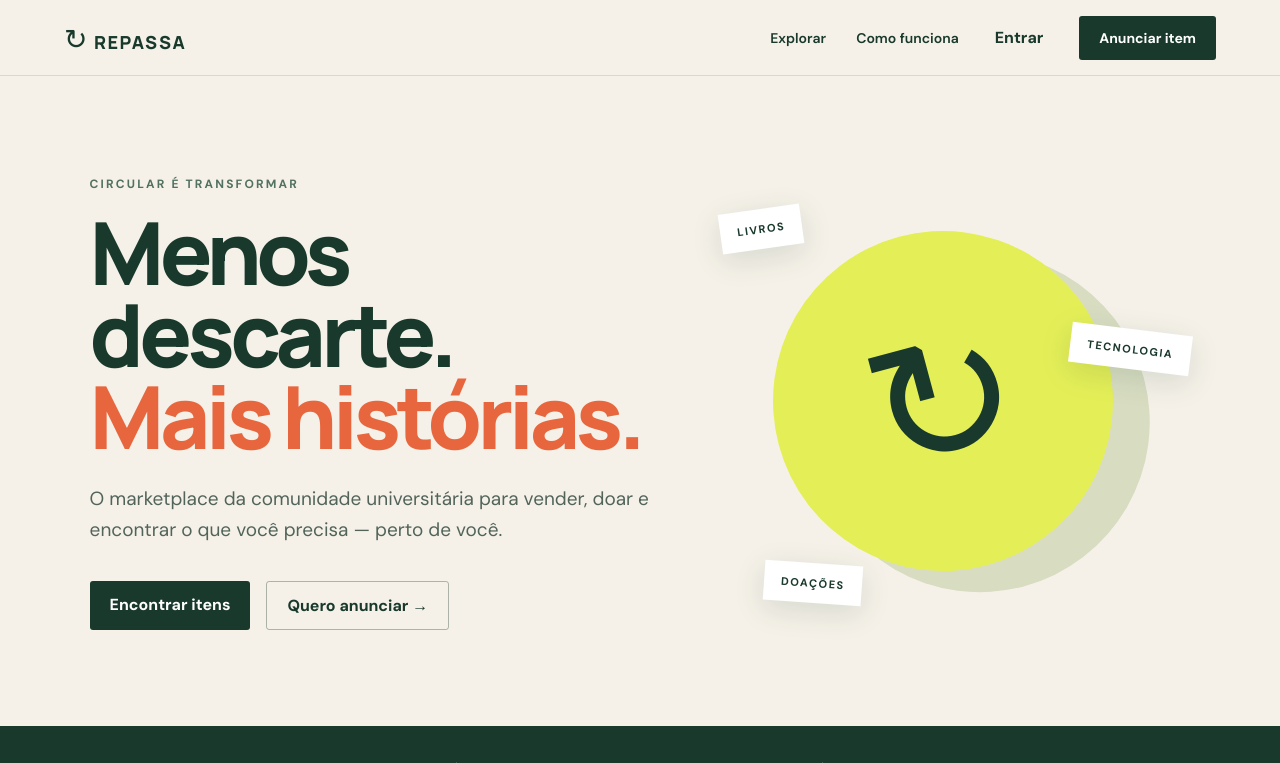
it: Repassa Campus › permite entrar e libera o formulário de anúncio
The image size is (1280, 763).
Click the button "Entrar" at (1019, 38), box [989,26,1049,49]
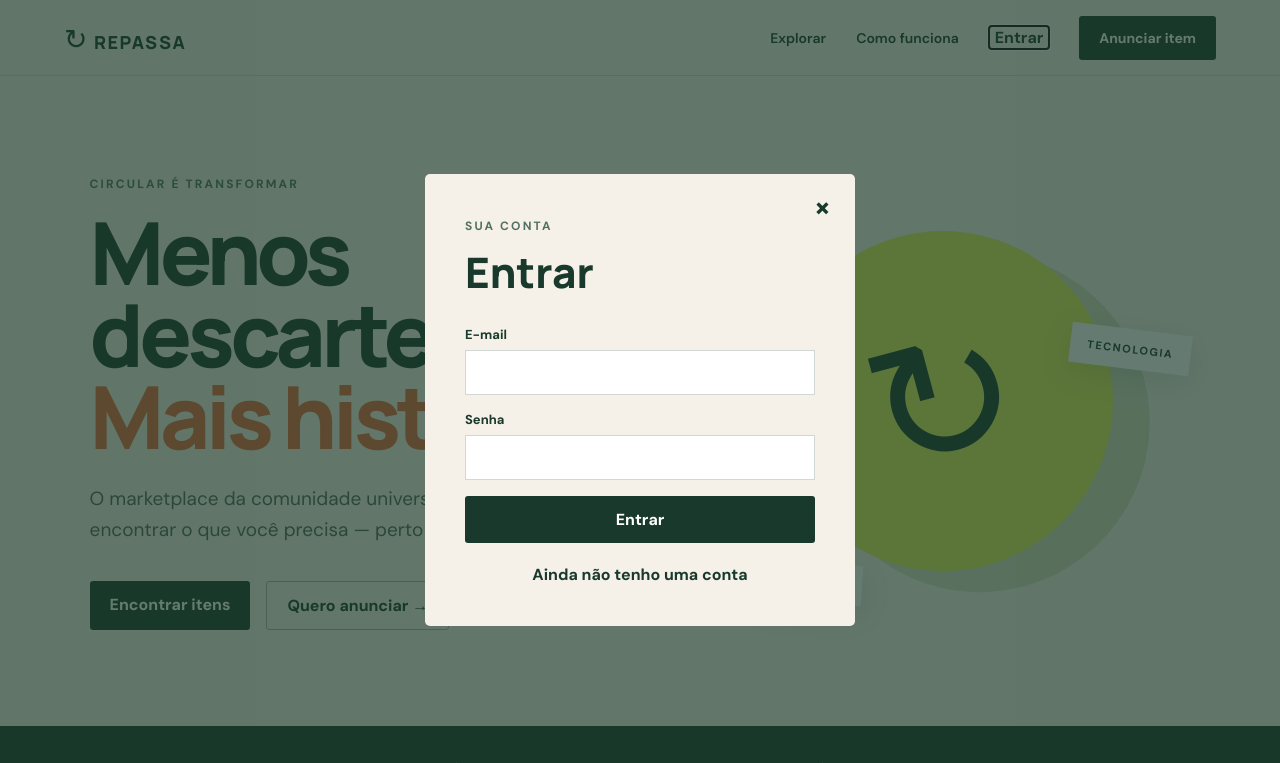
Type "lucas@unifor.br" into the field labelled "E-mail" at (640, 372), box [465,350,815,395]
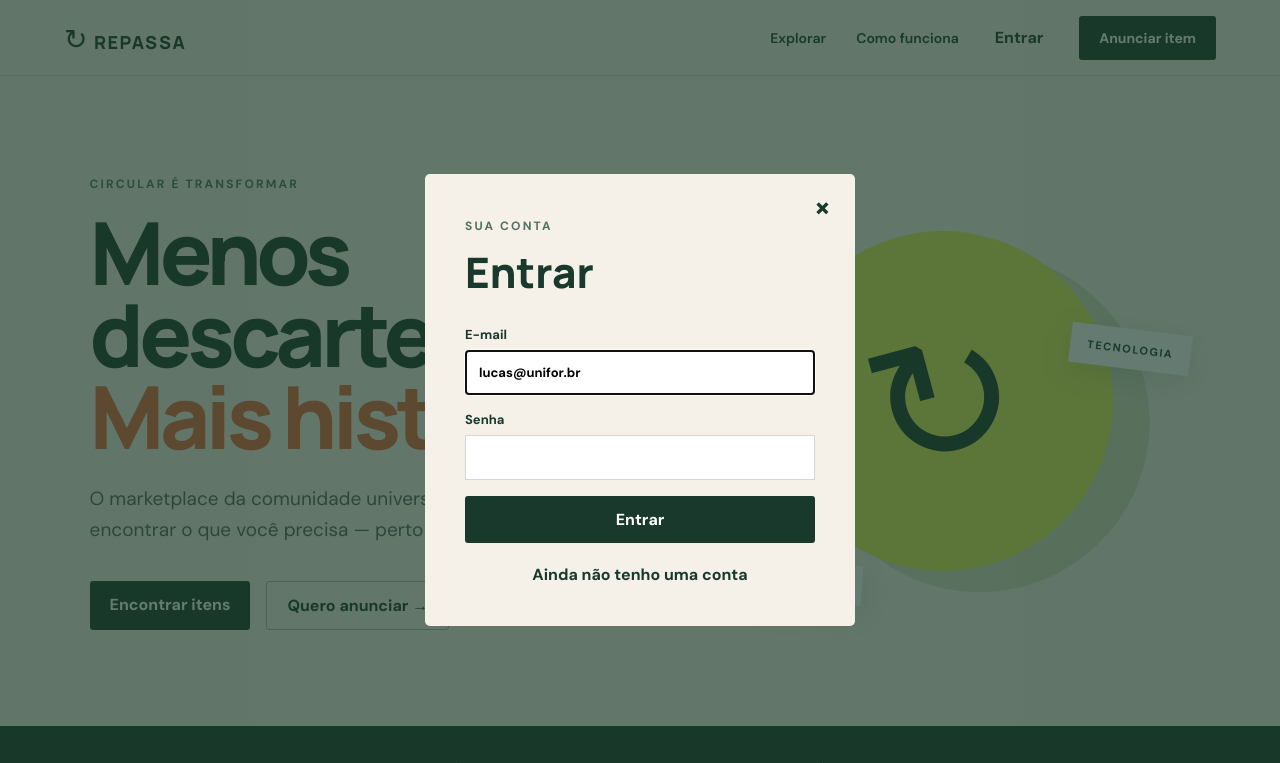
Type "senha-segura" into the password field labelled "Senha" at (640, 458), box [465,435,815,480]
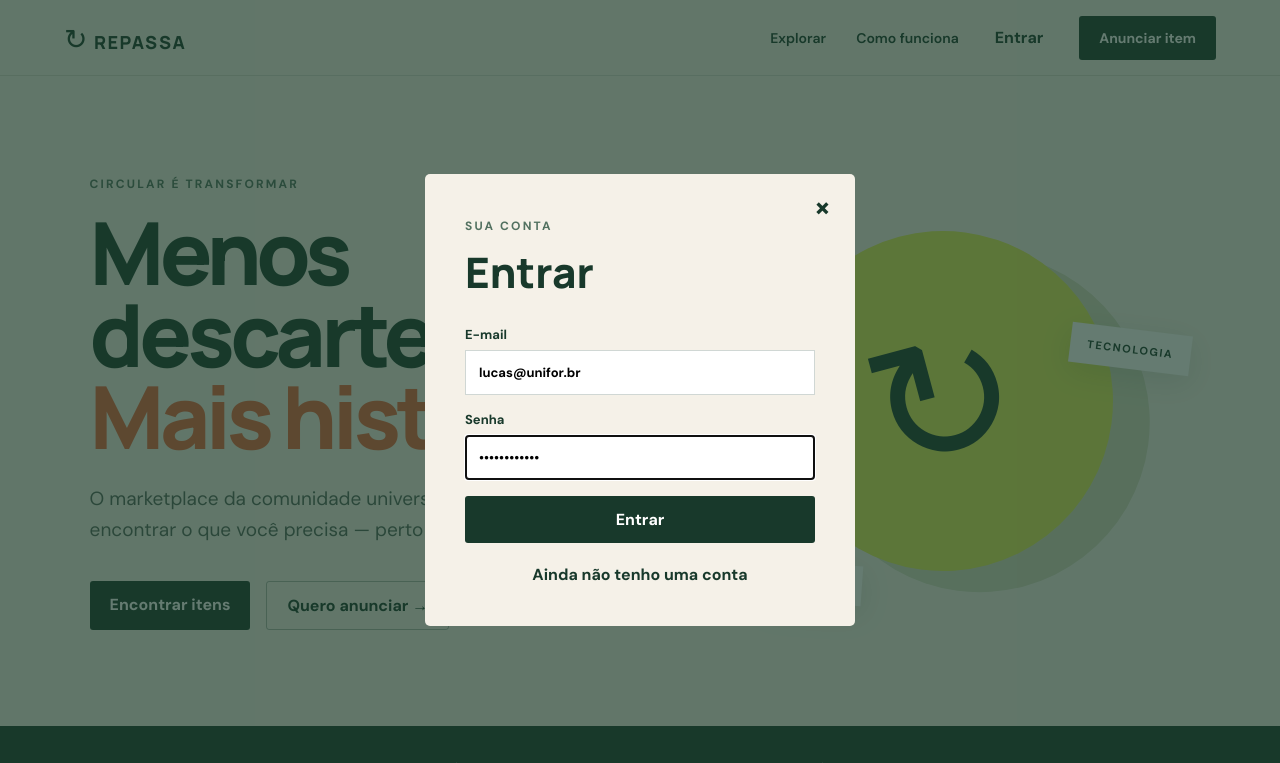
Click the button "Entrar" at (640, 520), box [465,496,815,543]
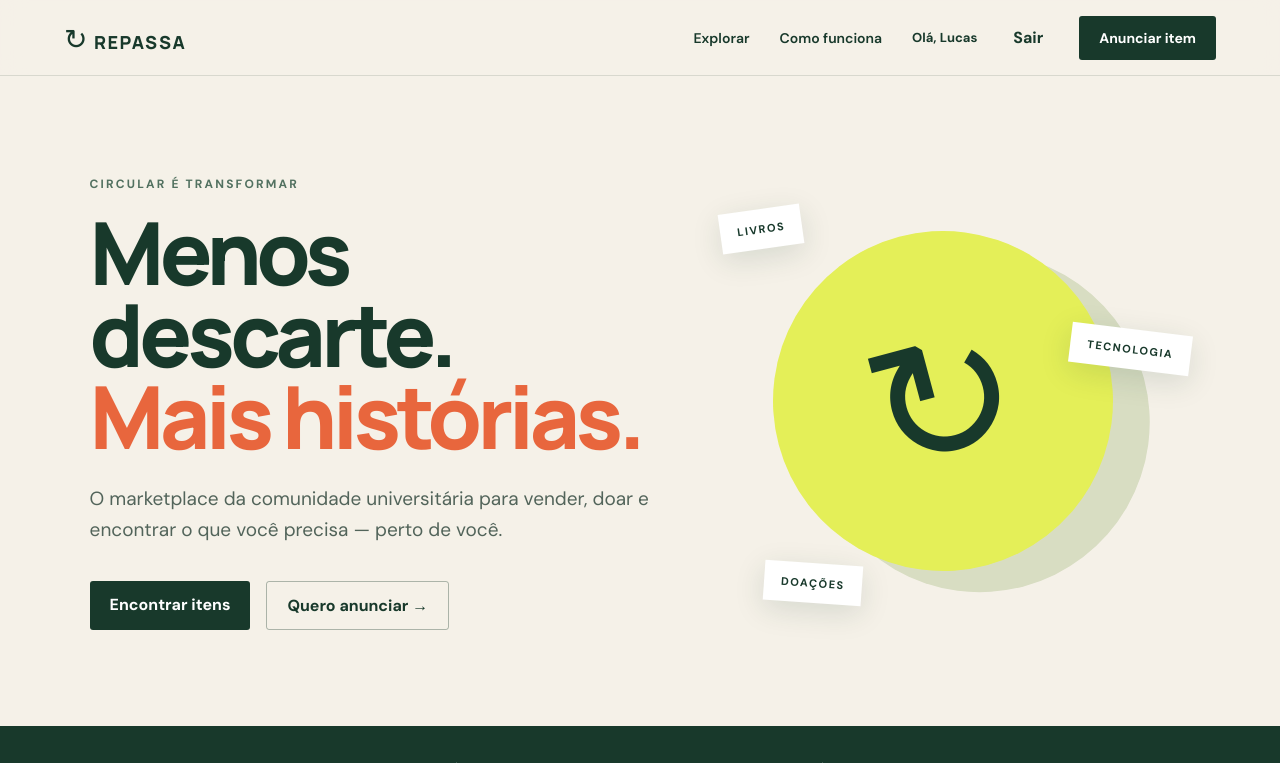
Check: the text "Olá, Lucas" is shown, box [912,29,977,46]
